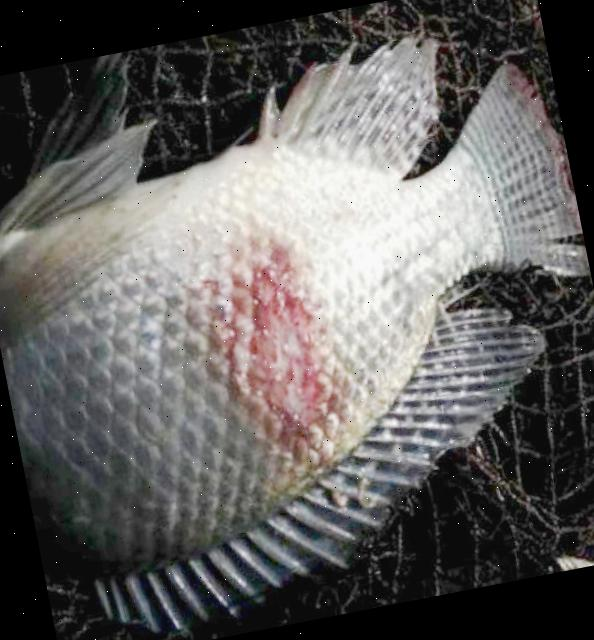Tilapia Lake Virus -TiLV-: (0, 38, 590, 629), (0, 37, 590, 625)
